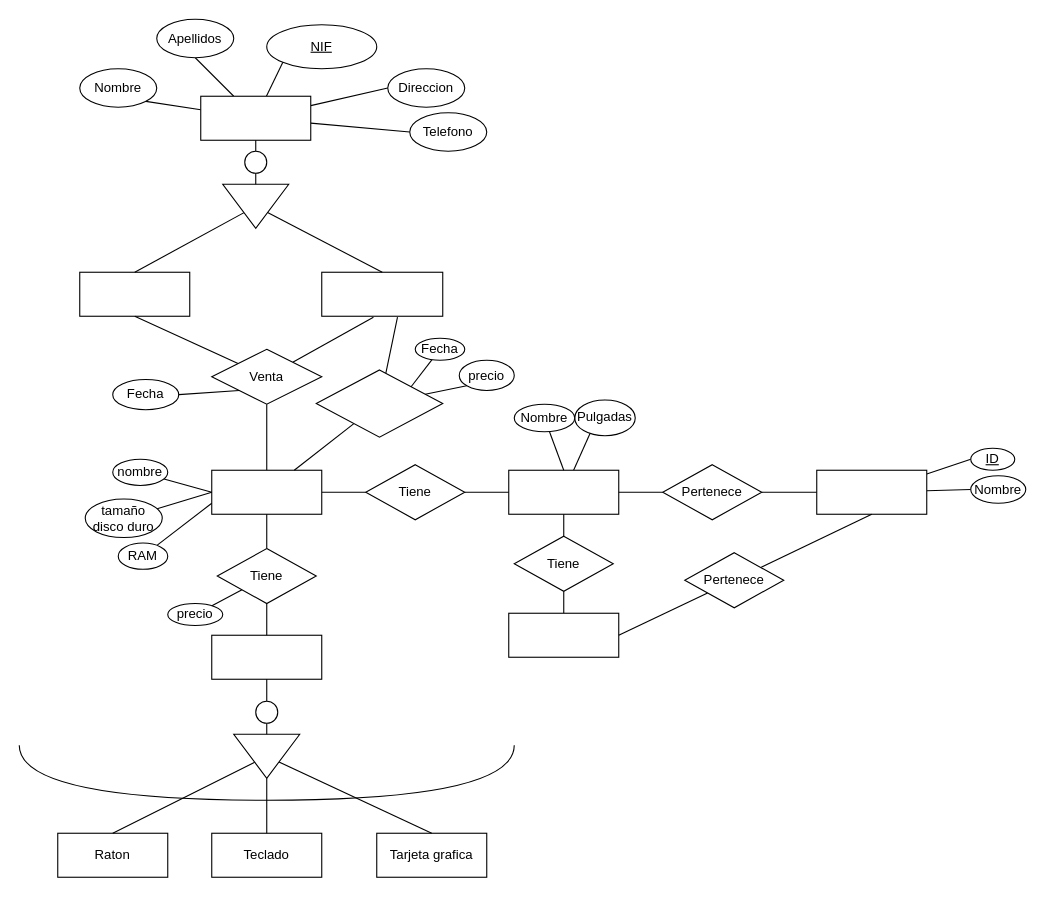
Some shapes in this 1045 by 897 pixel diagram are drawn without their labels. The centre of each missing label's shape, as x and y in pixels:
Cliente: the point at 382,293
Compra segunda mano: the point at 379,403
Extra: the point at 266,656
Marca: the point at 871,491
Modelo: the point at 563,491
Persona: the point at 255,117
Procesador: the point at 563,634
Vendedor: the point at 134,293
Version ordenador: the point at 266,491
